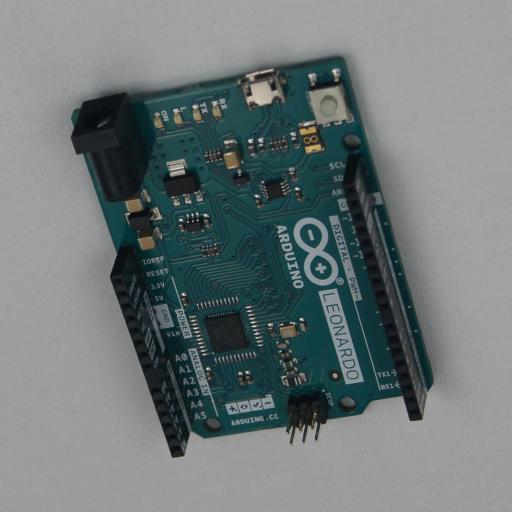Arduino Leonardo: (70, 55, 434, 458)
